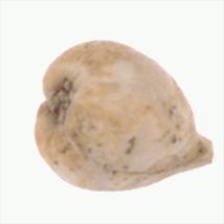L3: (187, 111, 214, 169)
L4: (33, 40, 214, 191)
